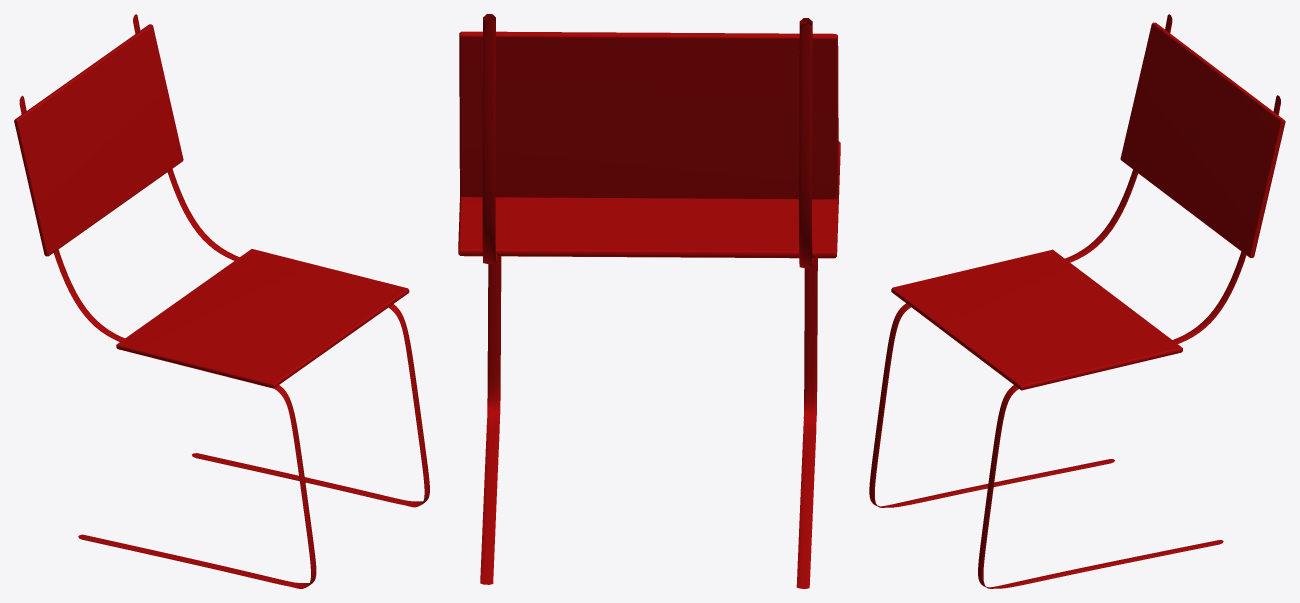
The model's file is Chair Modular.fbx.
3 views of the same model, side by side, from view 1: azimuth 30°, elevation 25°; view 2: azimuth 150°, elevation 25°; view 3: azimuth 270°, elevation 25° (orthographic). The views are drawn at different scales.
Visible parts, largest first — view 1: pCube12, pCube14, Cable_00, Cable_01; view 2: pCube12, pCube14, Cable_00, Cable_01; view 3: pCube14, pCube12, Cable_01, Cable_00.
Part boxes in pixels (bbox=[...]): pCube12: bbox=[14, 24, 183, 256]; pCube14: bbox=[116, 249, 409, 388]; Cable_00: bbox=[19, 95, 316, 588]; Cable_01: bbox=[133, 14, 429, 507]; pCube12: bbox=[459, 31, 838, 199]; pCube14: bbox=[458, 141, 840, 258]; Cable_00: bbox=[796, 18, 817, 588]; Cable_01: bbox=[480, 14, 501, 584]; pCube14: bbox=[891, 249, 1182, 390]; pCube12: bbox=[1120, 22, 1285, 257]; Cable_01: bbox=[978, 95, 1280, 588]; Cable_00: bbox=[869, 14, 1172, 507].
Size of the model in its own units: 78.13 by 97.03 by 84.51.
